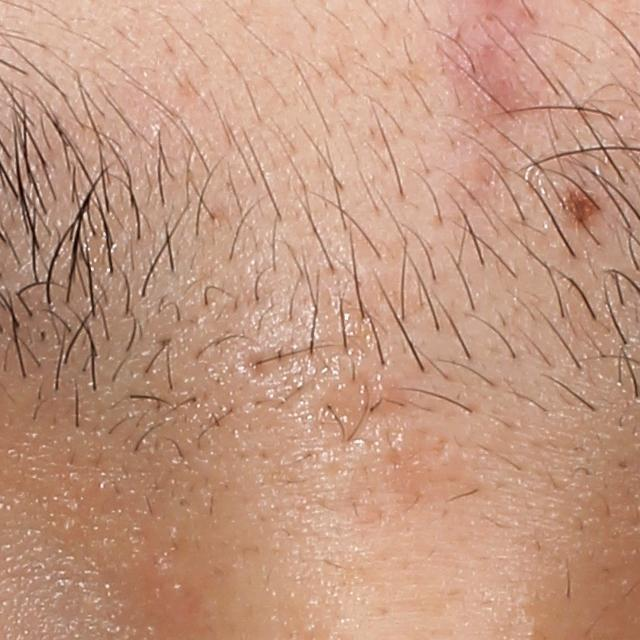atrophic_scar: (238, 346, 276, 385)
nevus: (554, 182, 607, 236)
